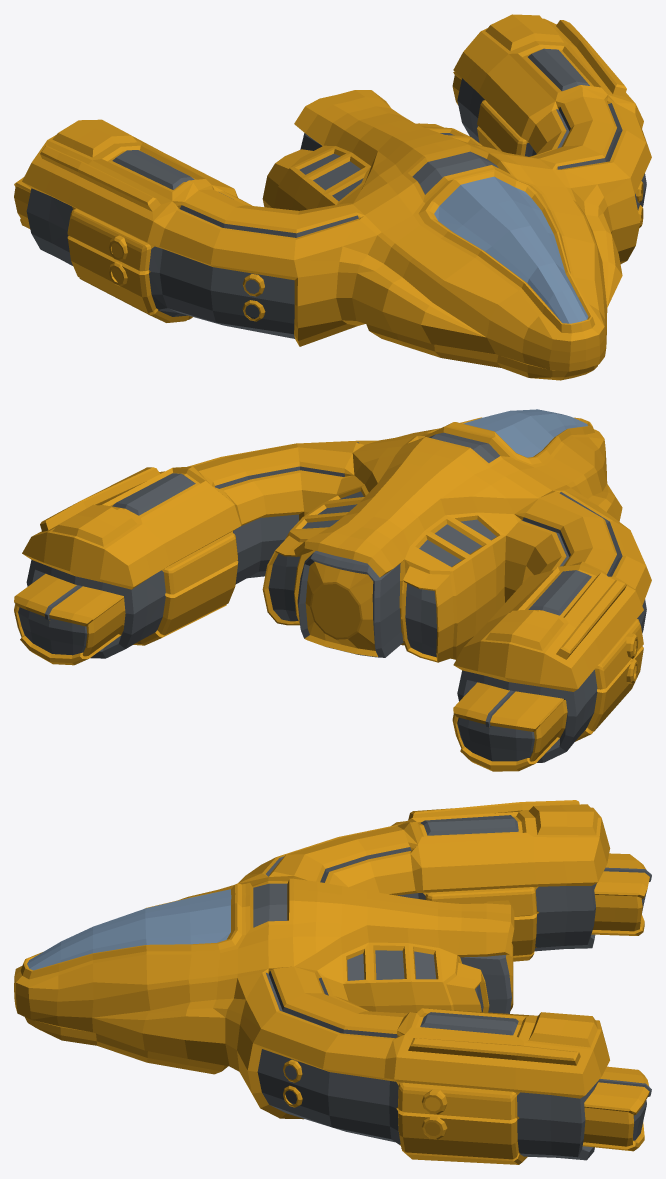
The model's file is Fighter_08_Body_Yellow.fbx.
3 views of the same model, one above another, from view 1: azimuth 30°, elevation 25°; view 2: azimuth 150°, elevation 25°; view 3: azimuth 270°, elevation 25° (orthographic).
Visible parts, largest first — view 1: Fighter_08_Body_Yellow; view 2: Fighter_08_Body_Yellow; view 3: Fighter_08_Body_Yellow.
Part boxes in pixels (x1,y1,x2,y2): Fighter_08_Body_Yellow: (14,14,651,380); Fighter_08_Body_Yellow: (14,409,651,771); Fighter_08_Body_Yellow: (14,800,651,1164).
Bounding box in the file's own units: 1805 × 524 × 1797.
3 materials, 3 textured.
